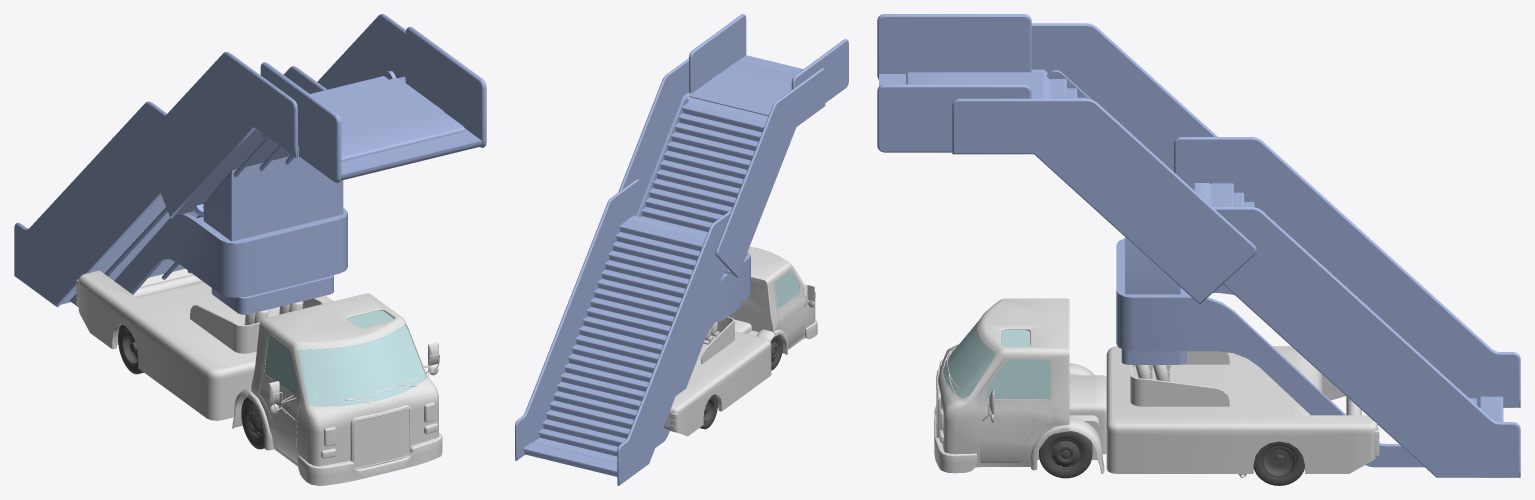
The model's file is Autoladder.fbx.
The picture shows the model from 3 angles, left to right: view 1: azimuth 30°, elevation 25°; view 2: azimuth 150°, elevation 25°; view 3: azimuth 270°, elevation 25°; orthographic projection. The views are drawn at different scales.
Parts seen in each view (by area): view 1: Autoladder_base, Ladder_up, Ladder_bridge, door_r, w1_R, w2; view 2: Autoladder_base, Ladder_up, Ladder_bridge, door_r, w2; view 3: Autoladder_base, Ladder_up, Ladder_bridge, door_L, w1_L, w2.
Boxes of the visible parts, x1,y1,x2,y2 form: Autoladder_base: (14, 66, 442, 485); Ladder_up: (142, 14, 465, 218); Ladder_bridge: (260, 27, 486, 183); door_r: (259, 333, 301, 462); w1_R: (241, 397, 264, 449); w2: (118, 324, 143, 374); Autoladder_base: (515, 179, 817, 485); Ladder_up: (618, 58, 825, 277); Ladder_bridge: (689, 14, 848, 102); door_r: (774, 269, 815, 346); w2: (700, 394, 717, 429); Autoladder_base: (934, 137, 1520, 477); Ladder_up: (906, 23, 1256, 304); Ladder_bridge: (877, 14, 1031, 152); door_L: (978, 357, 1052, 462); w1_L: (1039, 431, 1092, 478); w2: (1253, 441, 1304, 485).
Bounding box in the file's own units: 285 × 648 × 948.
